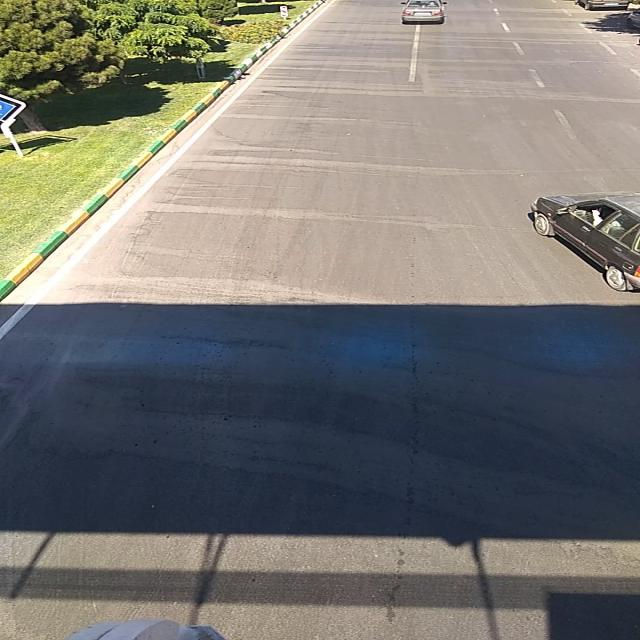car: (525, 191, 639, 293), (397, 2, 449, 22)
